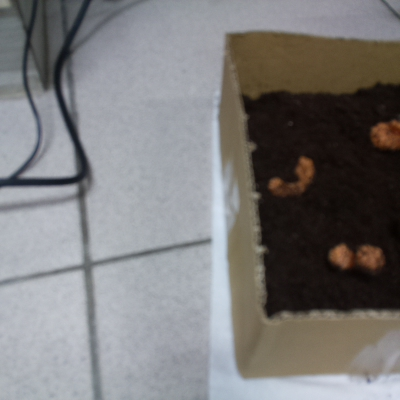eggs: (260, 151, 319, 204), (320, 237, 388, 281), (364, 114, 400, 158)
